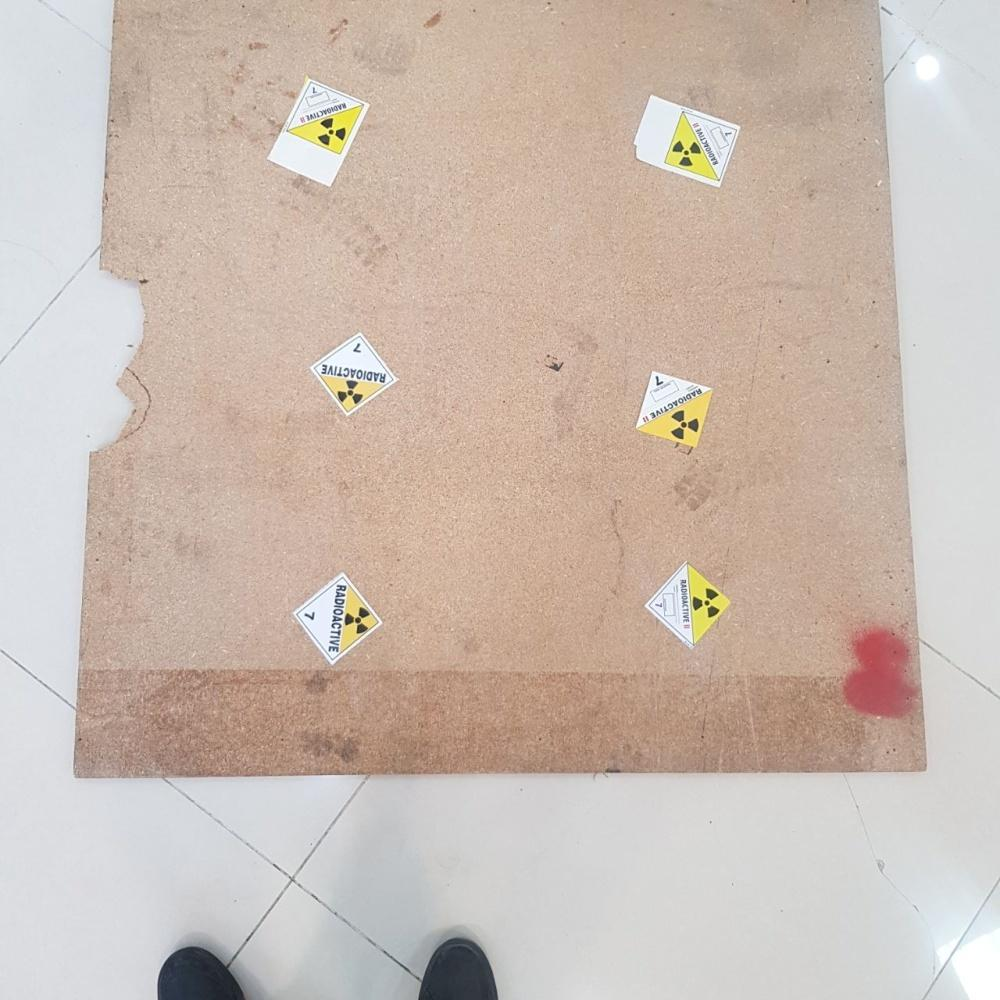radioactive: (270, 79, 368, 190), (627, 98, 741, 190), (294, 570, 381, 667), (310, 332, 396, 417), (647, 564, 731, 649), (635, 371, 714, 450)
